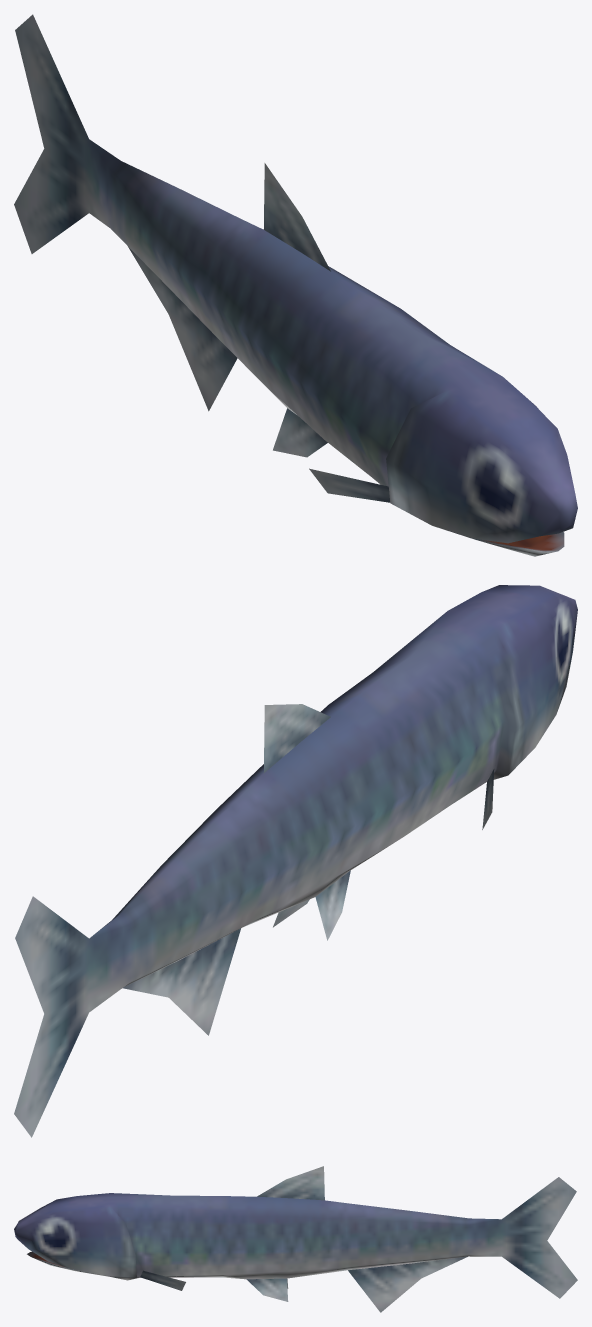
File: FishAntyobi.glb
The picture shows the model from 3 angles, top to bottom: view 1: azimuth 30°, elevation 25°; view 2: azimuth 150°, elevation 25°; view 3: azimuth 270°, elevation 25°; orthographic projection. The views are drawn at different scales.
Visible parts, largest first — view 1: FishAntyobi__mAntyobi; view 2: FishAntyobi__mAntyobi; view 3: FishAntyobi__mAntyobi.
Boxes of the visible parts, bbox=[...] form: FishAntyobi__mAntyobi: bbox=[14, 14, 577, 556]; FishAntyobi__mAntyobi: bbox=[14, 585, 577, 1137]; FishAntyobi__mAntyobi: bbox=[14, 1166, 577, 1312].
Bounding box in the file's own units: 0.7809 × 1.18 × 4.1.
Materials: 1 (1 with a texture image).
